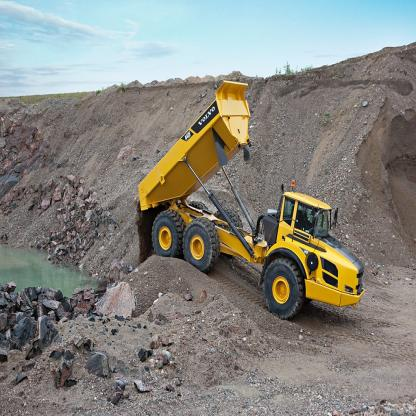dump_truck: (132, 76, 366, 335)
